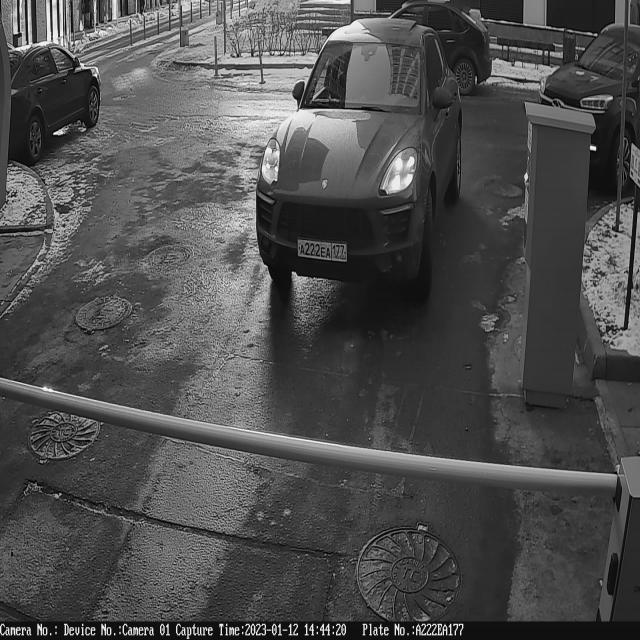car-plate-numbers: (296, 234, 351, 267)
